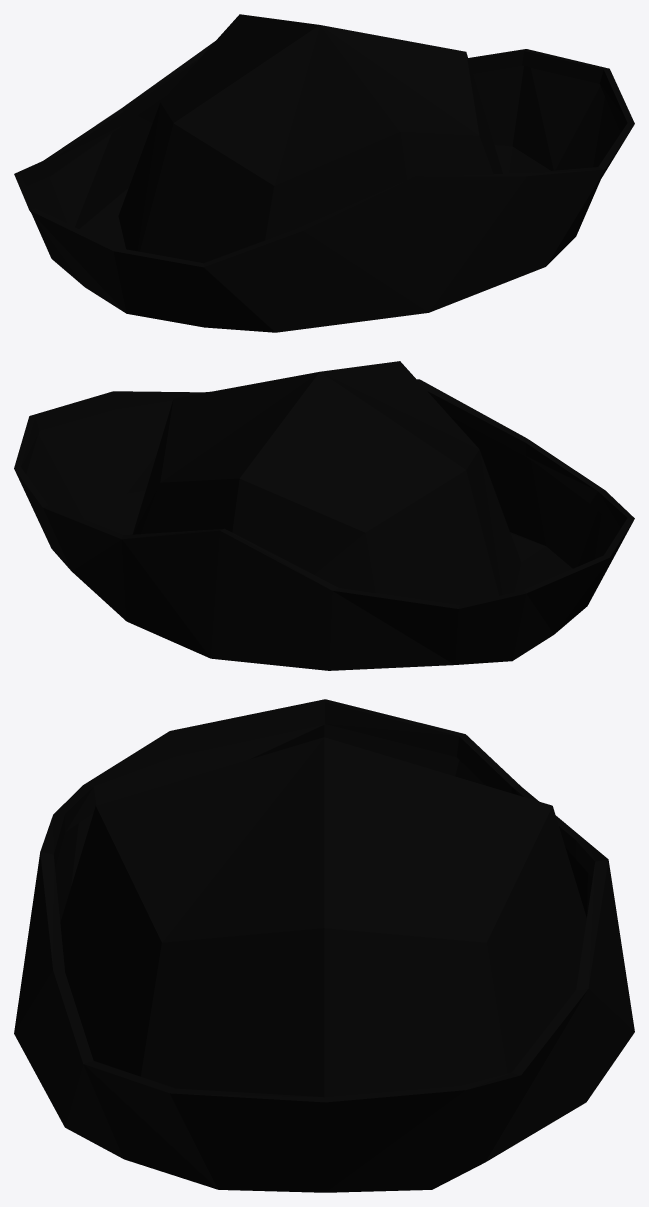
Rendered from pirate_hat.dae.
3 renders of one model, top to bottom at view 1: azimuth 30°, elevation 25°; view 2: azimuth 150°, elevation 25°; view 3: azimuth 270°, elevation 25°, orthographic. The views are drawn at different scales.
Parts seen in each view (by area): view 1: Cube; view 2: Cube; view 3: Cube.
Part boxes in pixels (x1=…): Cube: x1=14, y1=14, x2=634, y2=332; Cube: x1=14, y1=361, x2=634, y2=670; Cube: x1=14, y1=699, x2=634, y2=1192.
Bounding box in the file's own units: 2.93 × 1.9 × 1.
1 material, 1 textured.
